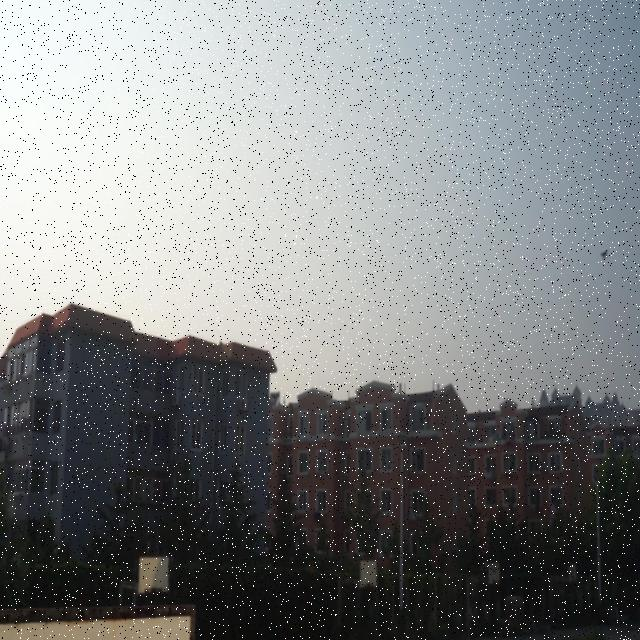UAV: (600, 249, 609, 260)
